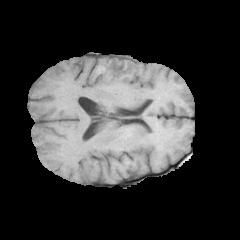glioma: (106, 55, 154, 97)
